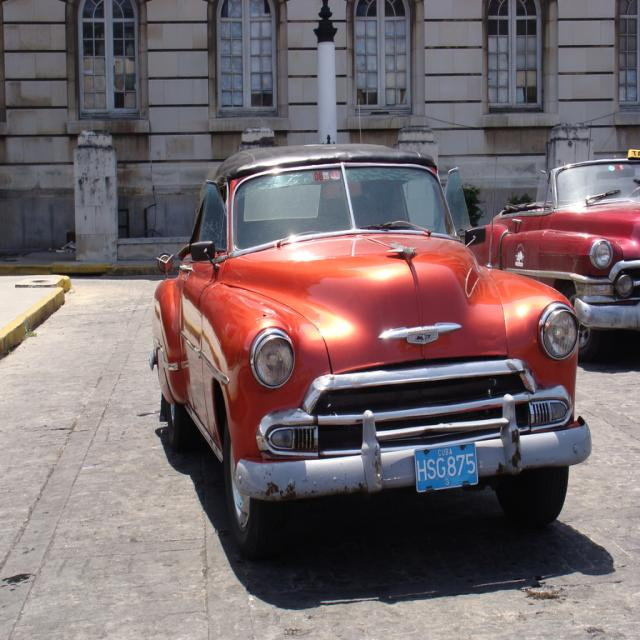car: (145, 142, 572, 560)
